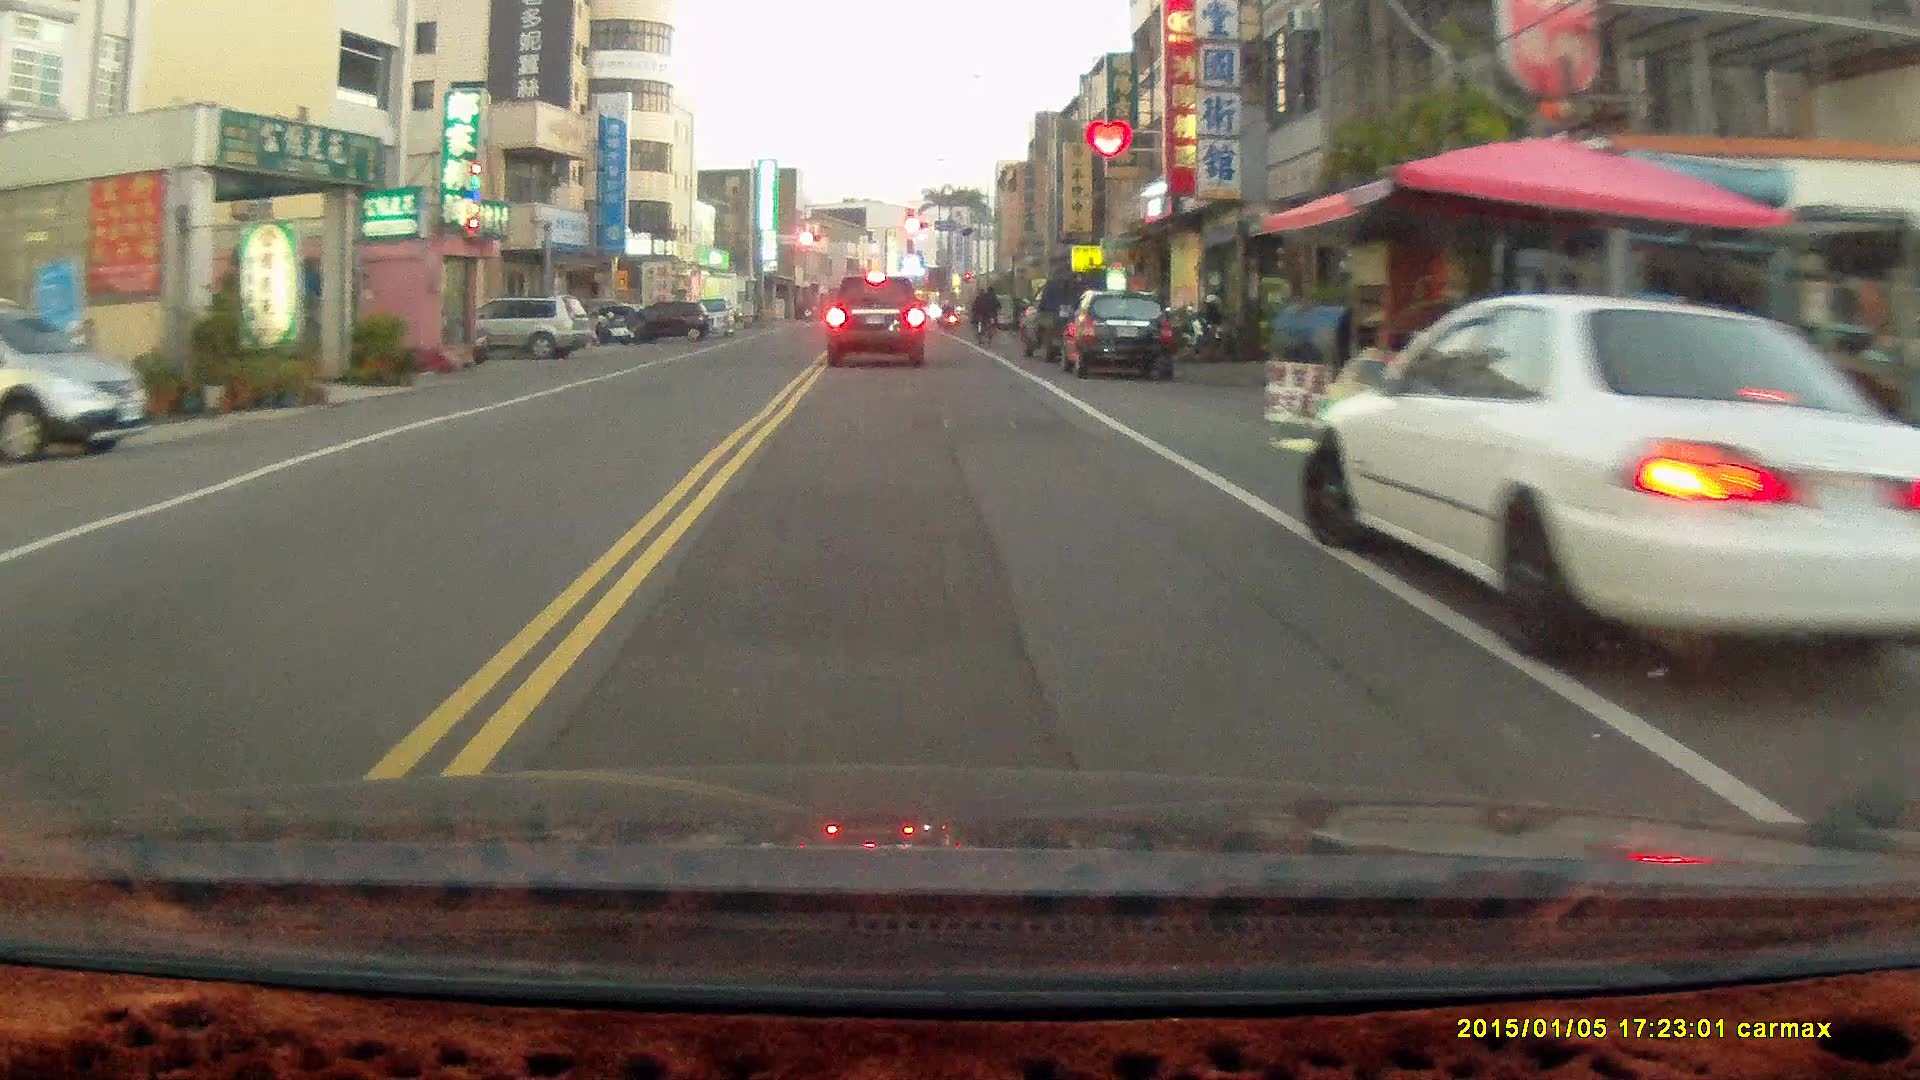rider: (972, 280, 1001, 346)
vehicle: (1300, 291, 1920, 667), (1, 301, 152, 456), (1061, 293, 1184, 387), (824, 275, 933, 369), (443, 292, 592, 355), (611, 297, 710, 343)
